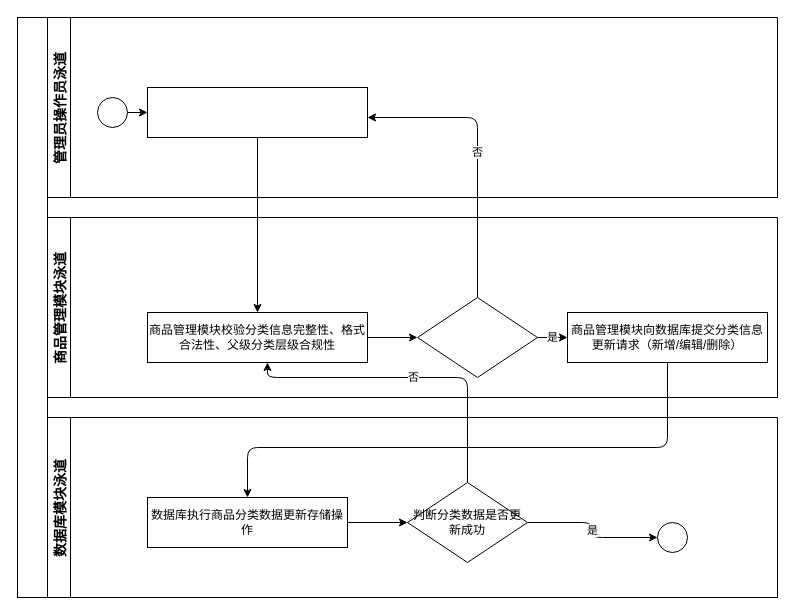
This 795x615 diagram has some shape labels left out. Here are the shapes that lost their labels. From the top down, the centre of each, then its label:
At point (257, 112): "管理员选择商品分类管理操作（新增/编辑/删除分类），填写分类信息（分类名称、父级分类、排序序号、分类状态）".
At point (32, 307): "商品分类流程".
At point (477, 337): "判断分类信息是否合规有效".
